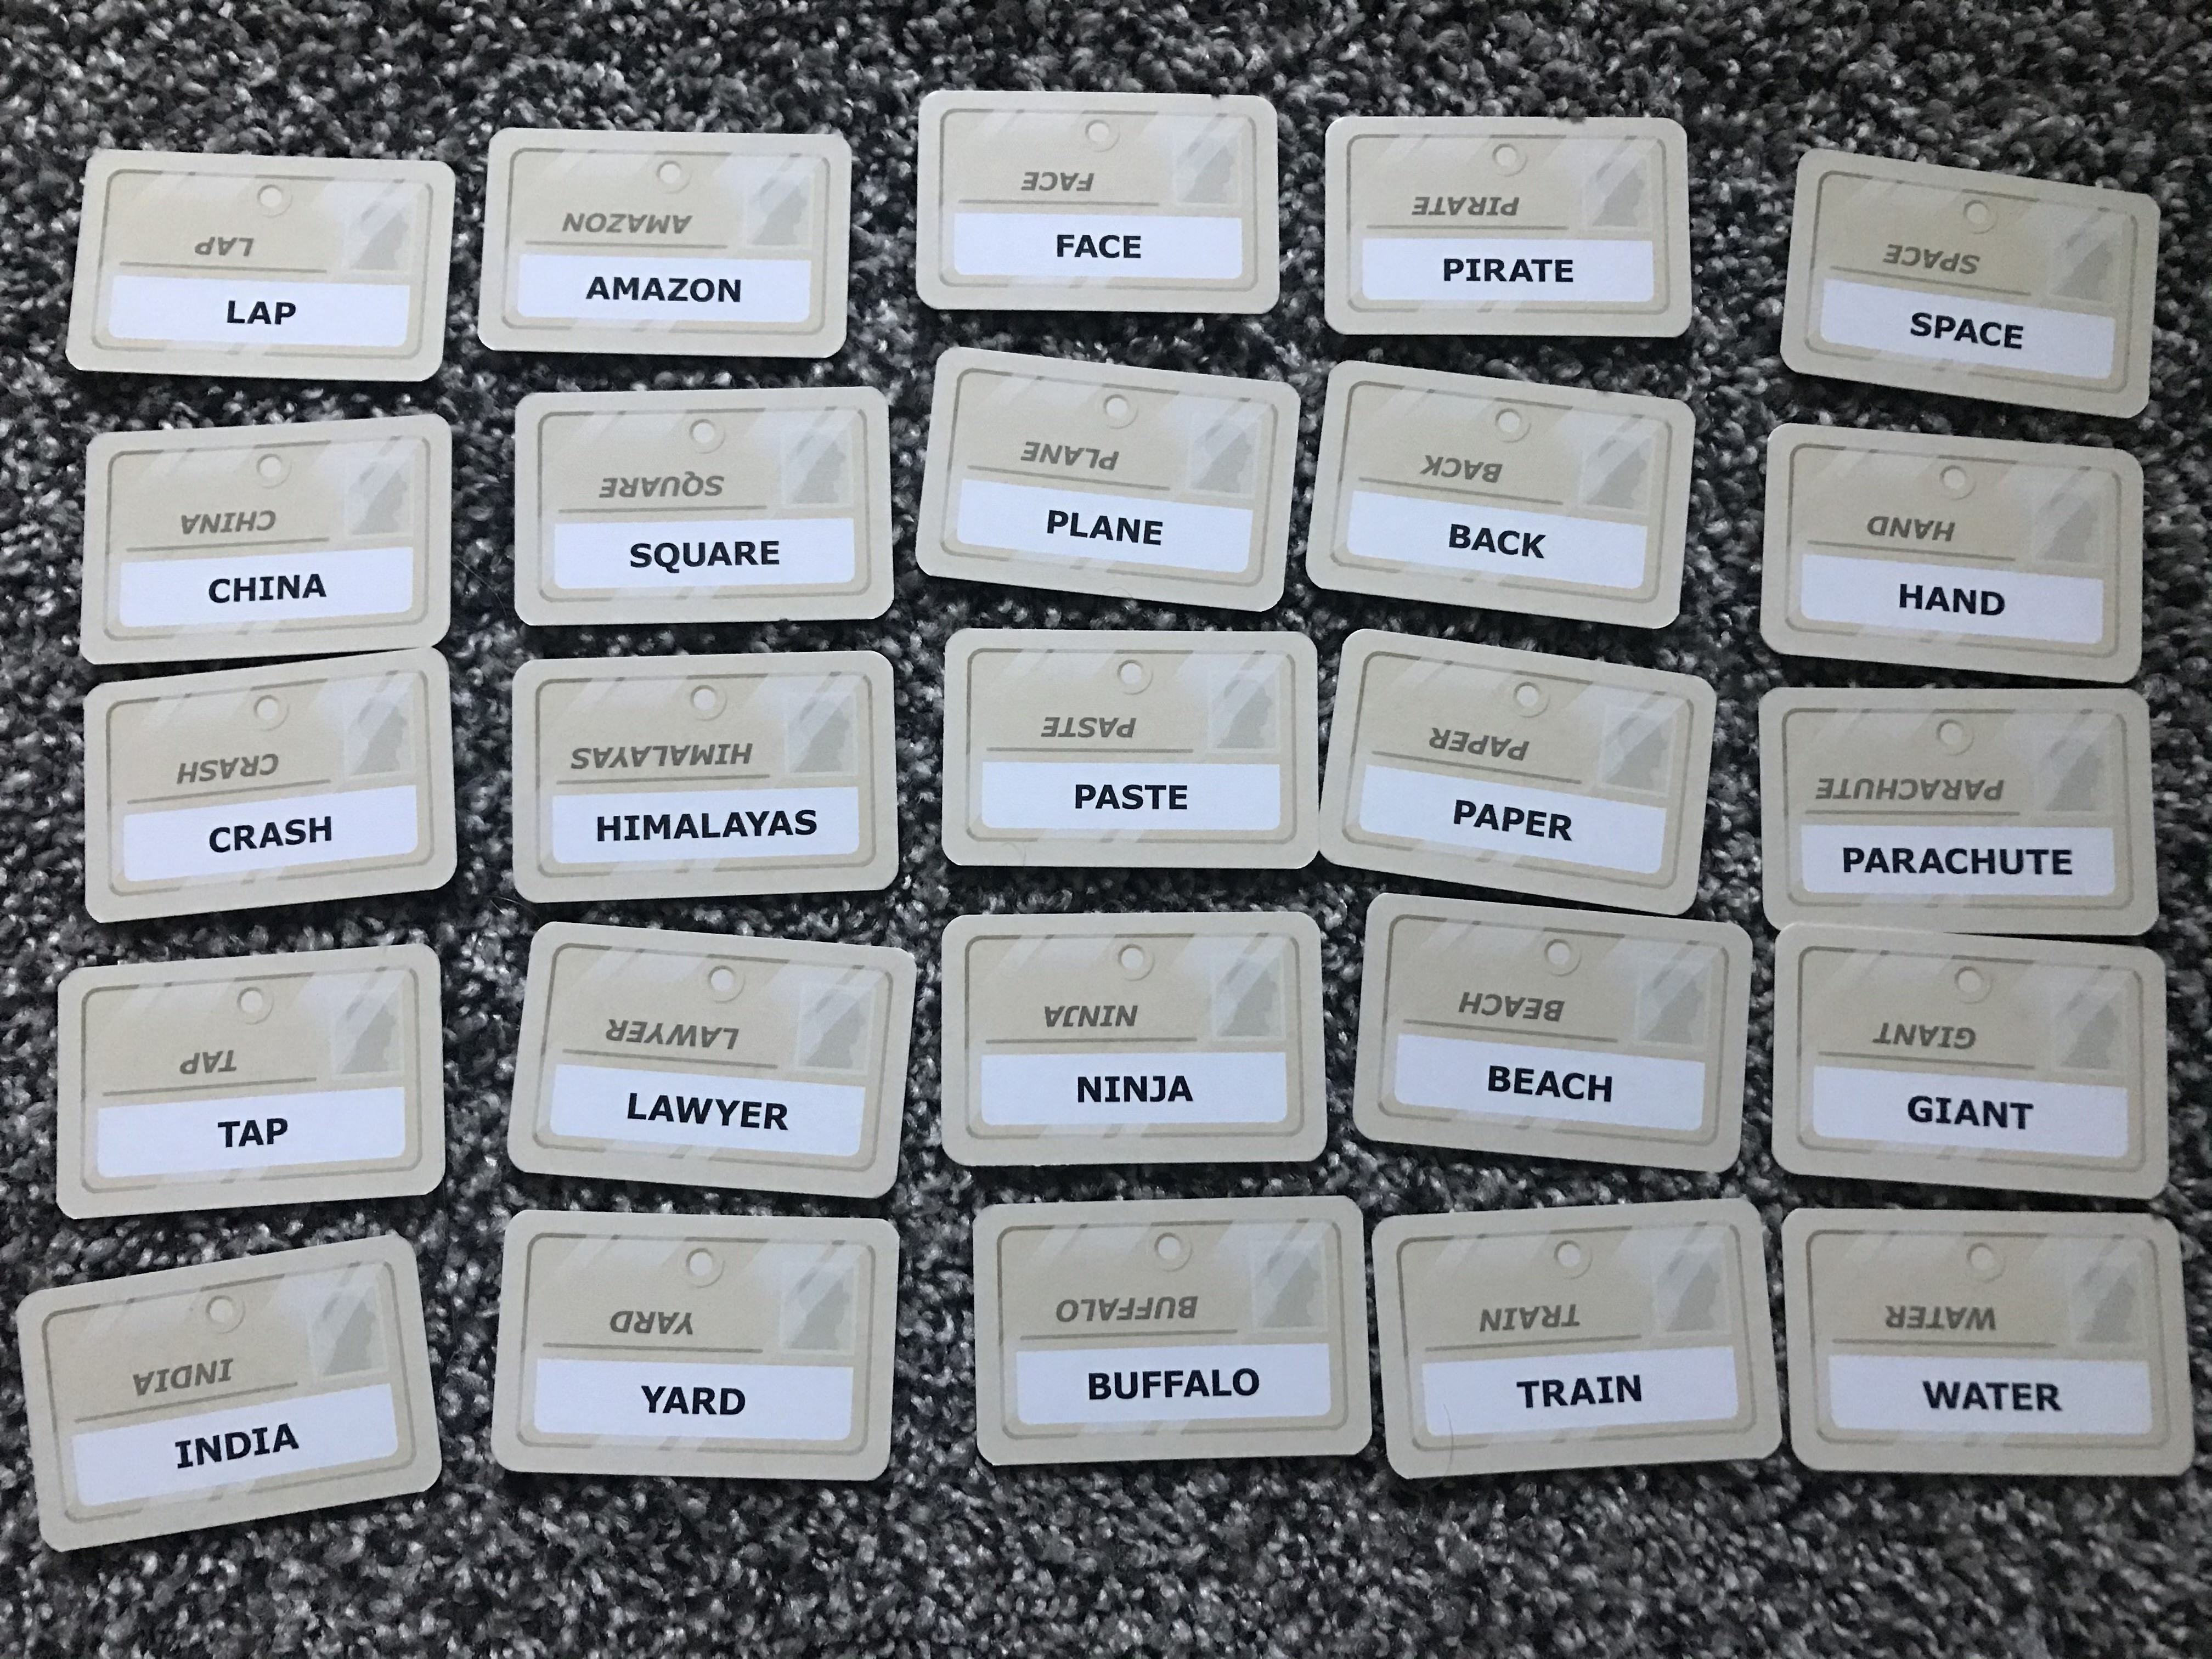A: (1569, 1373, 1601, 1415), (1963, 1377, 1991, 1420), (268, 1419, 301, 1455), (1181, 1364, 1211, 1405), (1474, 798, 1500, 843), (1952, 1094, 1980, 1136), (662, 1380, 690, 1422), (235, 1115, 265, 1152), (1167, 1072, 1197, 1108), (648, 1091, 676, 1129), (585, 268, 610, 310), (1073, 228, 1101, 265), (704, 537, 732, 573), (672, 809, 700, 845), (719, 805, 745, 843), (768, 805, 794, 843), (1536, 1065, 1562, 1103), (298, 568, 327, 601), (1865, 840, 1890, 880), (1916, 843, 1944, 878), (1507, 254, 1533, 291), (1952, 314, 1979, 350), (1090, 509, 1113, 551), (1096, 781, 1120, 819), (258, 819, 286, 852), (1470, 523, 1494, 558), (1925, 580, 1947, 615), (641, 272, 662, 307), (247, 296, 270, 328)
